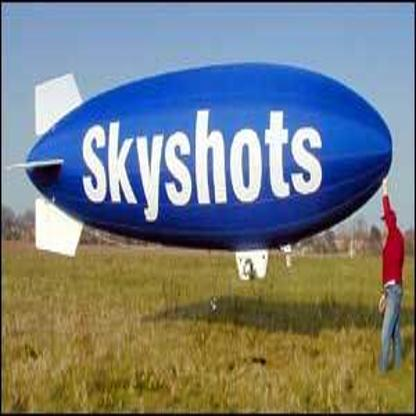Airship: (12, 62, 394, 277)
